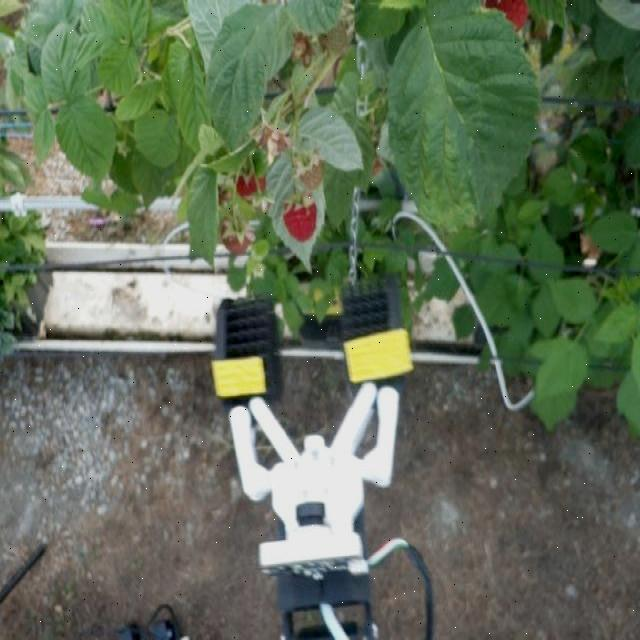Riped berries: (282, 191, 321, 241), (485, 0, 532, 37), (220, 211, 258, 253), (235, 152, 269, 198)
